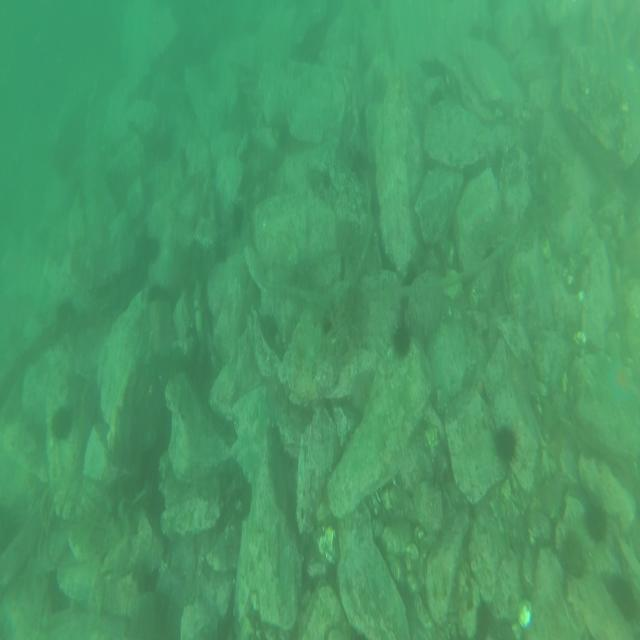echinus: (560, 526, 586, 578), (612, 570, 636, 619), (493, 424, 517, 466), (585, 502, 607, 543), (48, 406, 72, 442), (391, 321, 411, 357), (258, 314, 280, 346), (147, 281, 169, 309), (148, 490, 167, 519), (143, 236, 160, 262)
starfish: (604, 353, 635, 409)
